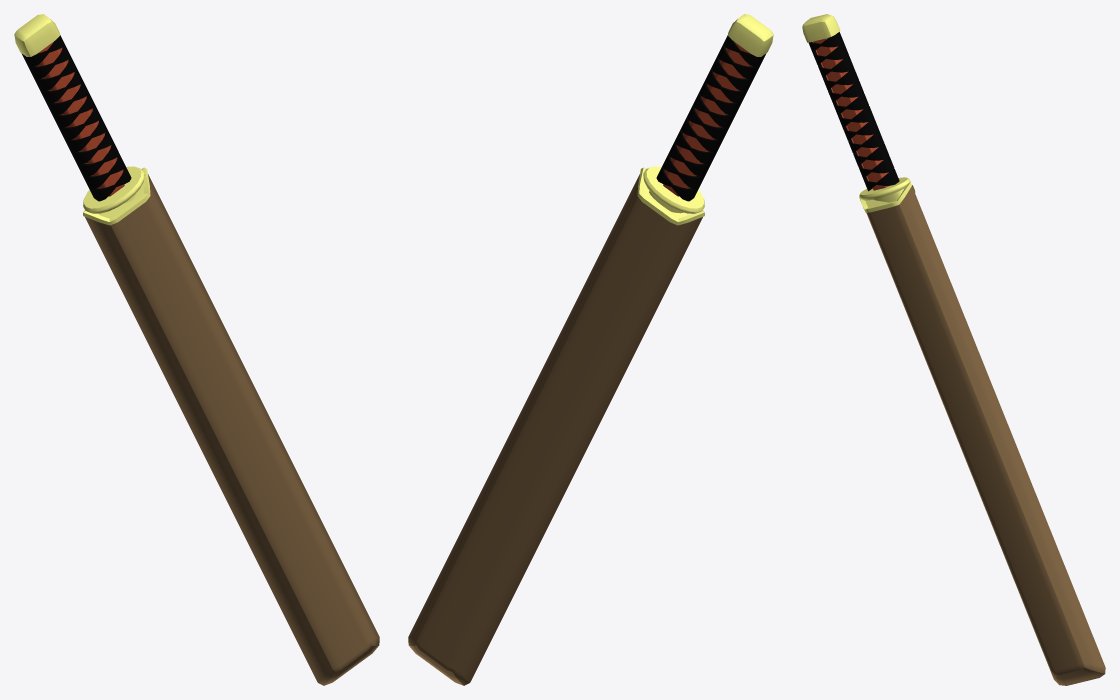
The model's file is Whole Sword.fbx.
3 views of the same model, side by side, from view 1: azimuth 30°, elevation 25°; view 2: azimuth 150°, elevation 25°; view 3: azimuth 330°, elevation 25° (orthographic). The views are drawn at different scales.
Visible parts, largest first — view 1: Sheath1, Katana1; view 2: Sheath1, Katana1; view 3: Sheath1, Katana1.
Part boxes in pixels (x1=…): Sheath1: x1=83, y1=167, x2=379, y2=685; Katana1: x1=14, y1=14, x2=144, y2=213; Sheath1: x1=408, y1=167, x2=704, y2=685; Katana1: x1=643, y1=14, x2=773, y2=213; Sheath1: x1=859, y1=182, x2=1105, y2=685; Katana1: x1=802, y1=14, x2=910, y2=202.
Bounding box in the file's own units: 8.44 × 16.43 × 1.
